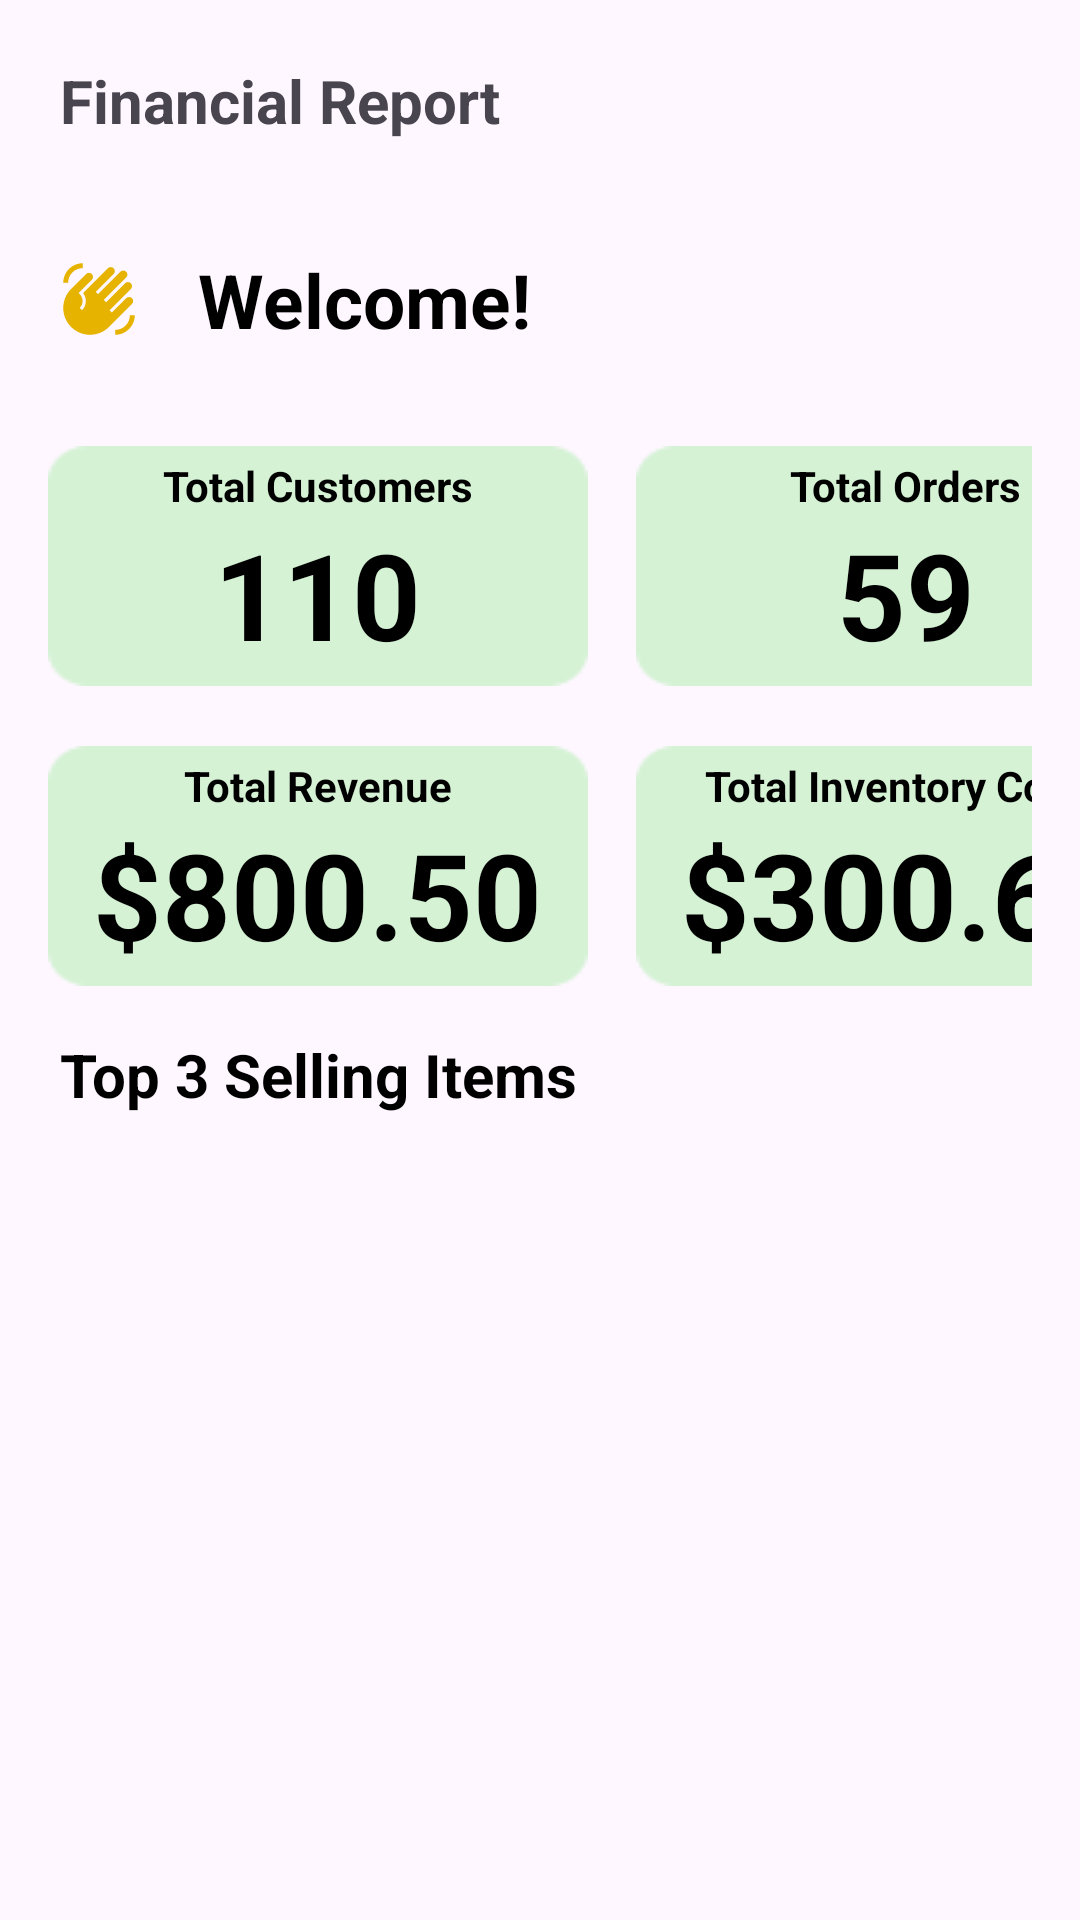

Where icons sit on this 1080*1920 app screen, as (x1, y1, x2, y2):
waving hand: (63, 263, 135, 335)
